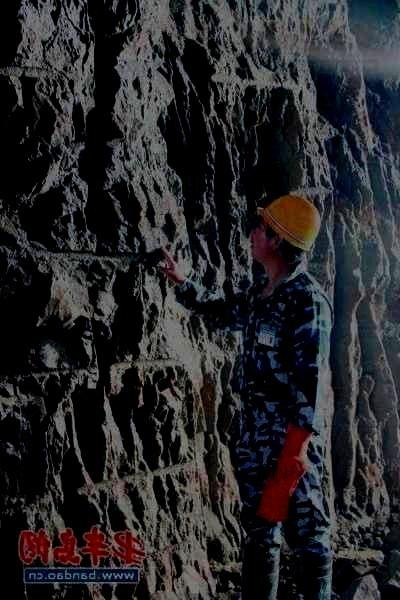helmet: (249, 194, 322, 263)
